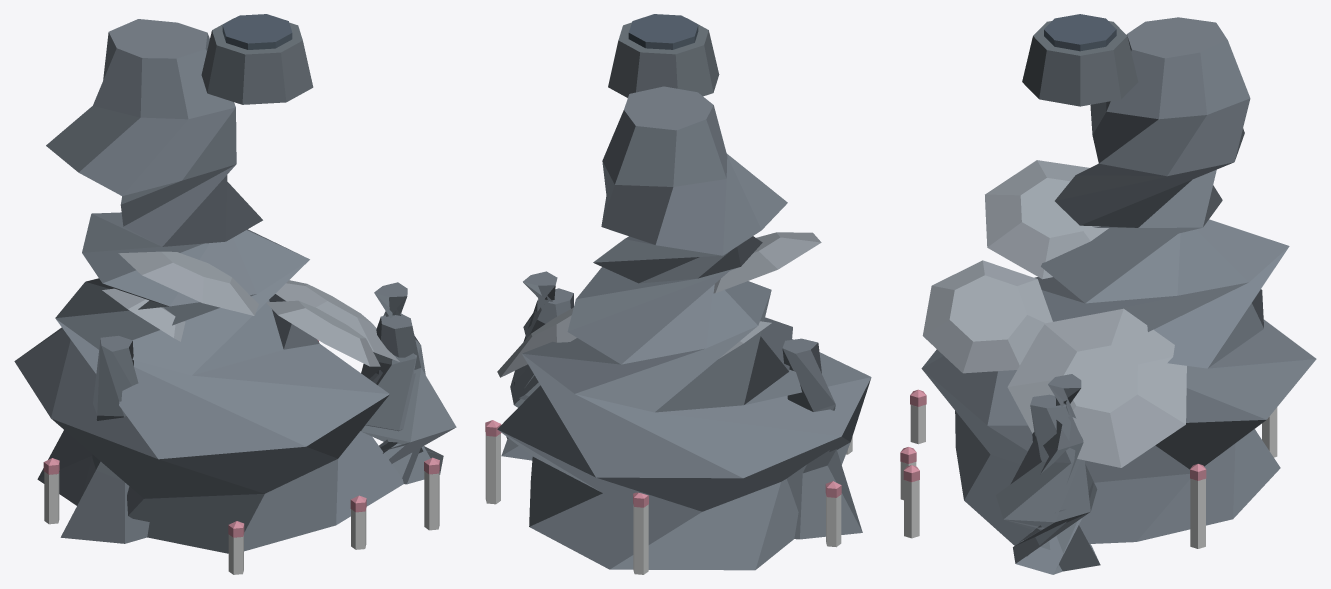
The picture shows the model from 3 angles, left to right: view 1: azimuth 30°, elevation 25°; view 2: azimuth 150°, elevation 25°; view 3: azimuth 270°, elevation 25°; orthographic projection.
Visible parts, largest first — view 1: sea_hydrothermal_vent; view 2: sea_hydrothermal_vent; view 3: sea_hydrothermal_vent.
Part boxes in pixels (x1=…): sea_hydrothermal_vent: x1=14, y1=14, x2=456, y2=574; sea_hydrothermal_vent: x1=485, y1=14, x2=871, y2=574; sea_hydrothermal_vent: x1=900, y1=14, x2=1316, y2=574.
Size of the model in its own units: 2.37 by 2.8 by 2.29.
